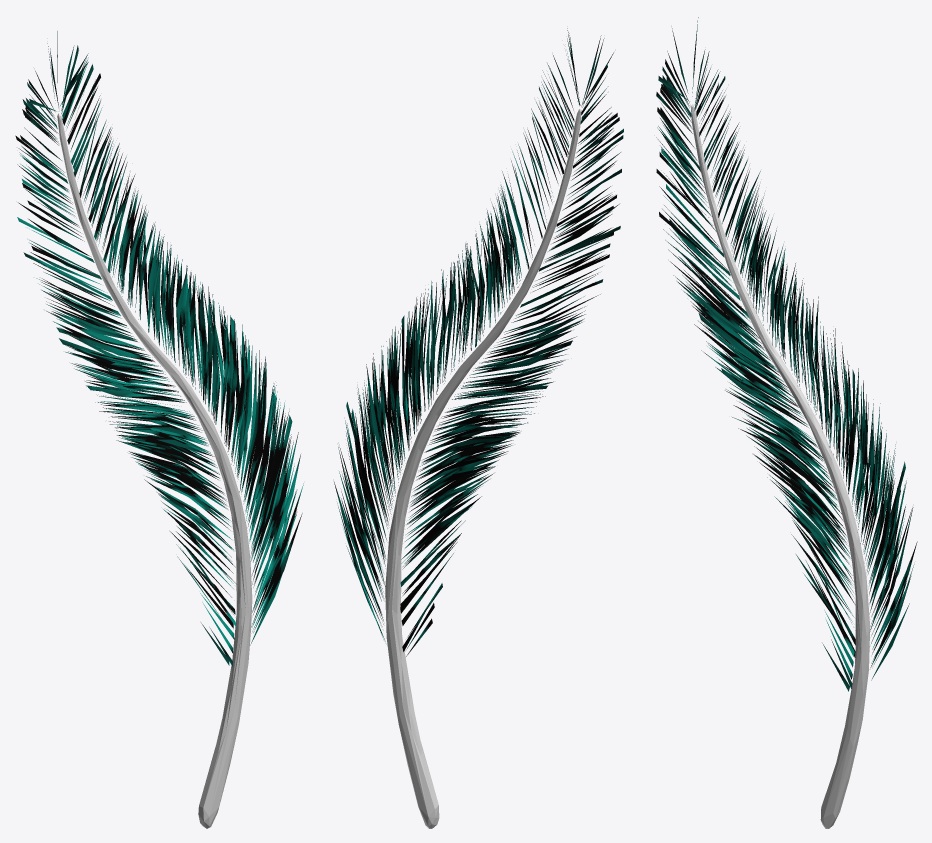
3 renders of one model, left to right at view 1: azimuth 30°, elevation 25°; view 2: azimuth 150°, elevation 25°; view 3: azimuth 330°, elevation 25°, orthographic. The views are drawn at different scales.
Parts seen in each view (by area): view 1: Feather; view 2: Feather; view 3: Feather.
Boxes of the visible parts, x1,y1,x2,y2 form: Feather: [15, 31, 303, 828]; Feather: [334, 28, 623, 828]; Feather: [656, 17, 917, 828].
Size of the model in its own units: 0.2093 by 0.6072 by 0.0438.
2 materials, 1 textured.
